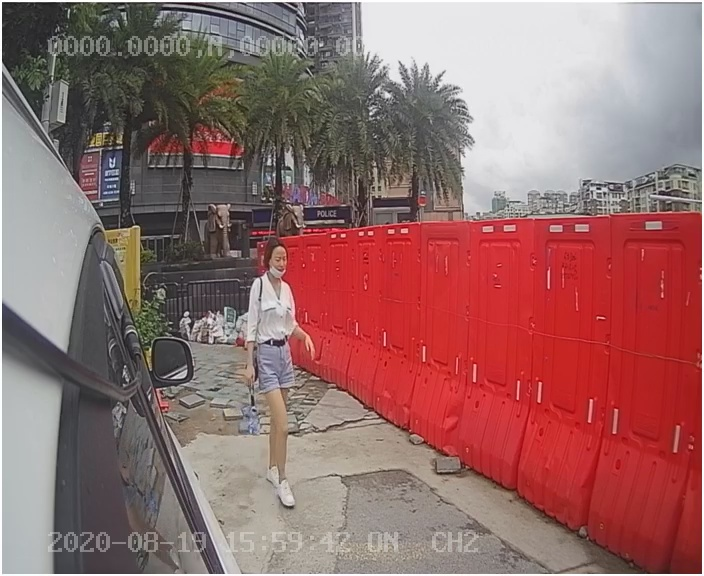person: (234, 231, 341, 509)
